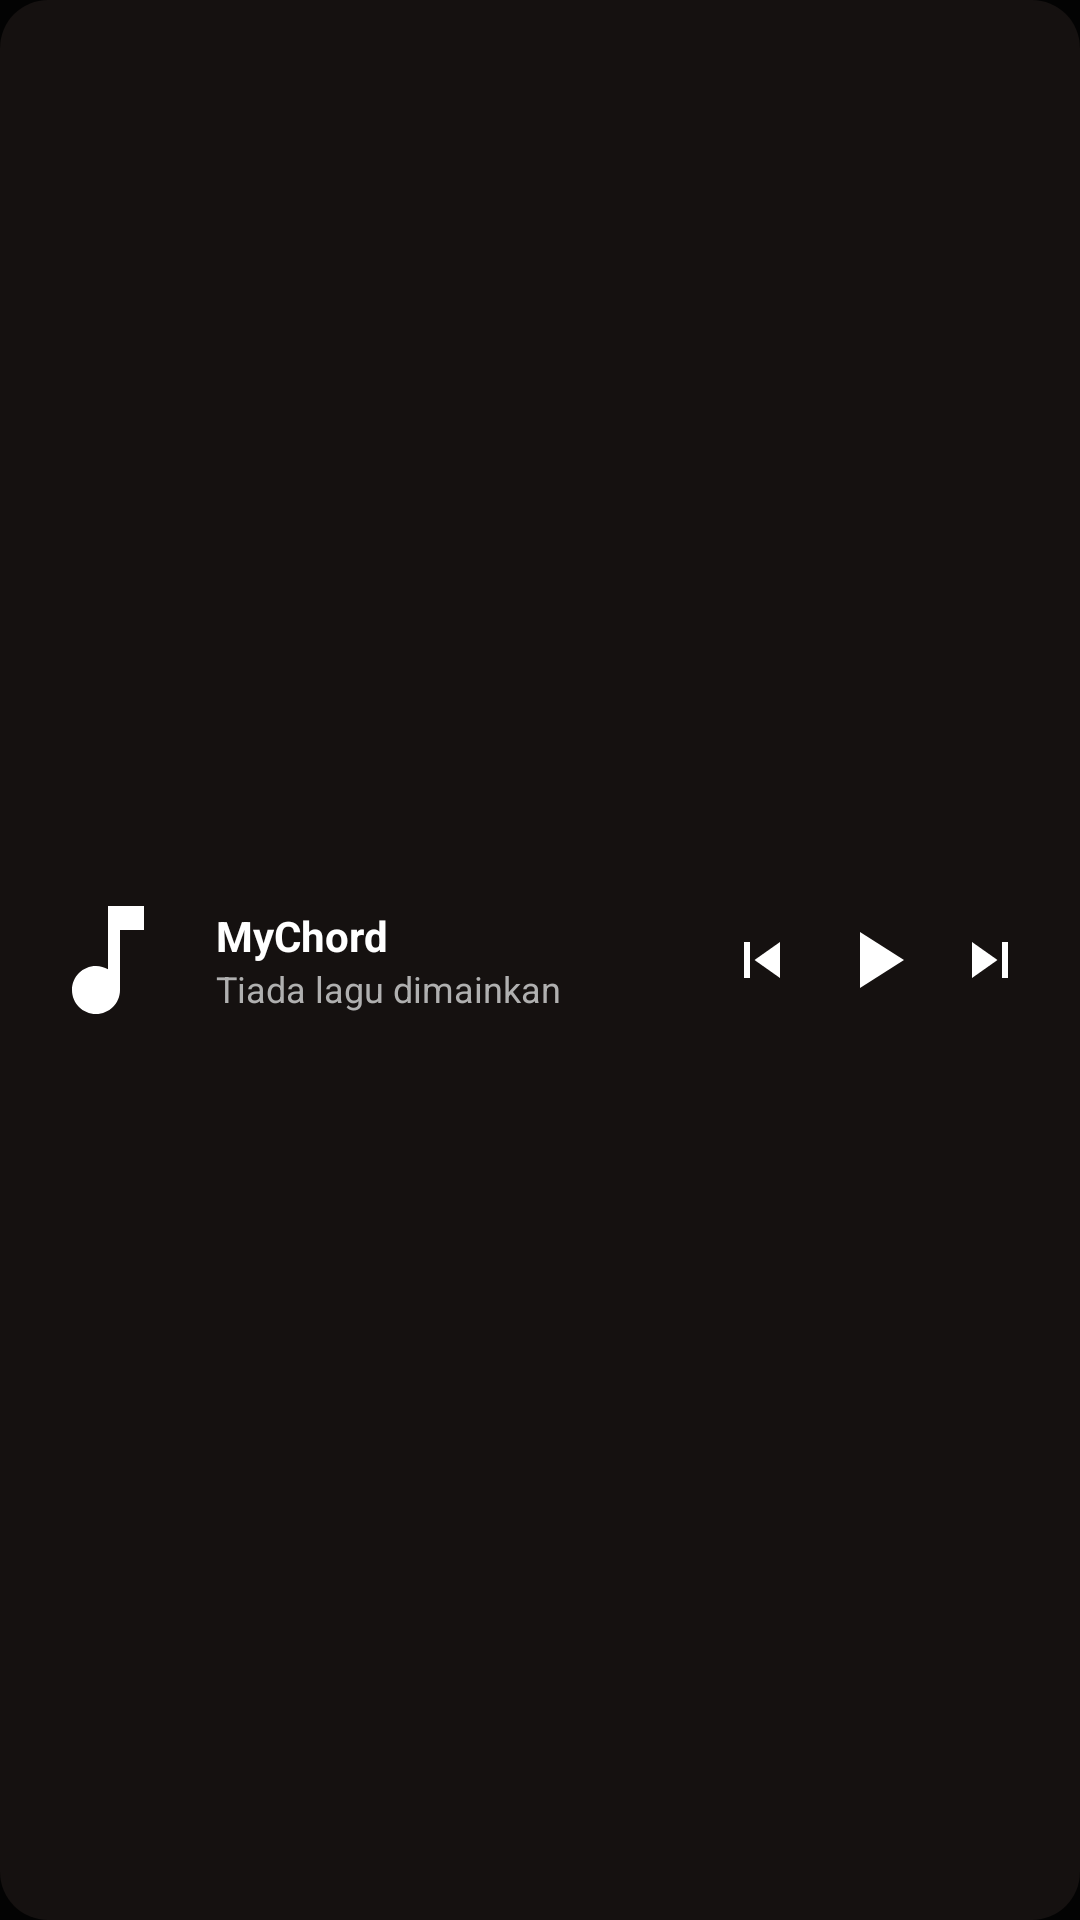

Icon click points for this 1080 x 1920 phone screenshot, format (x=x, y=y):
next: (x=990, y=960)
note: (x=108, y=960)
play: (x=882, y=960)
prev: (x=762, y=960)
